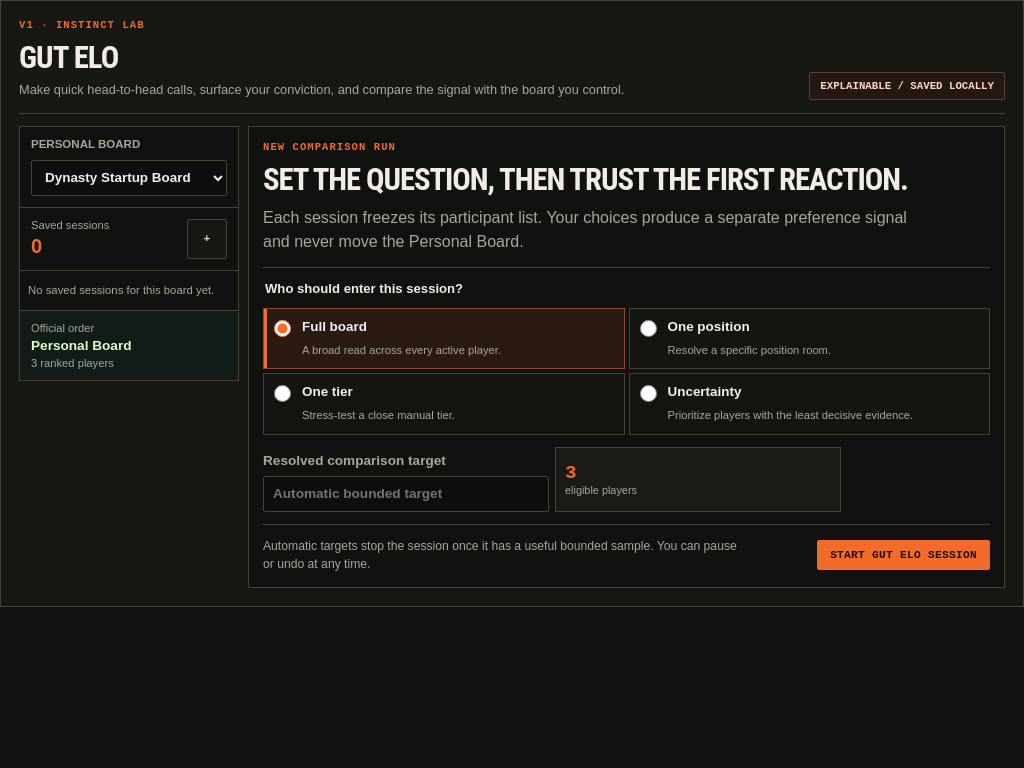
Test: GutEloWorkspace › starts a bounded position session from the selected Personal Board
Expected: the heading "Set the question, then trust the first reaction." is shown, [263, 160, 990, 198]
Click the radio button labelled "One position Resolve a specific position room." at (648, 329), box [640, 320, 656, 337]
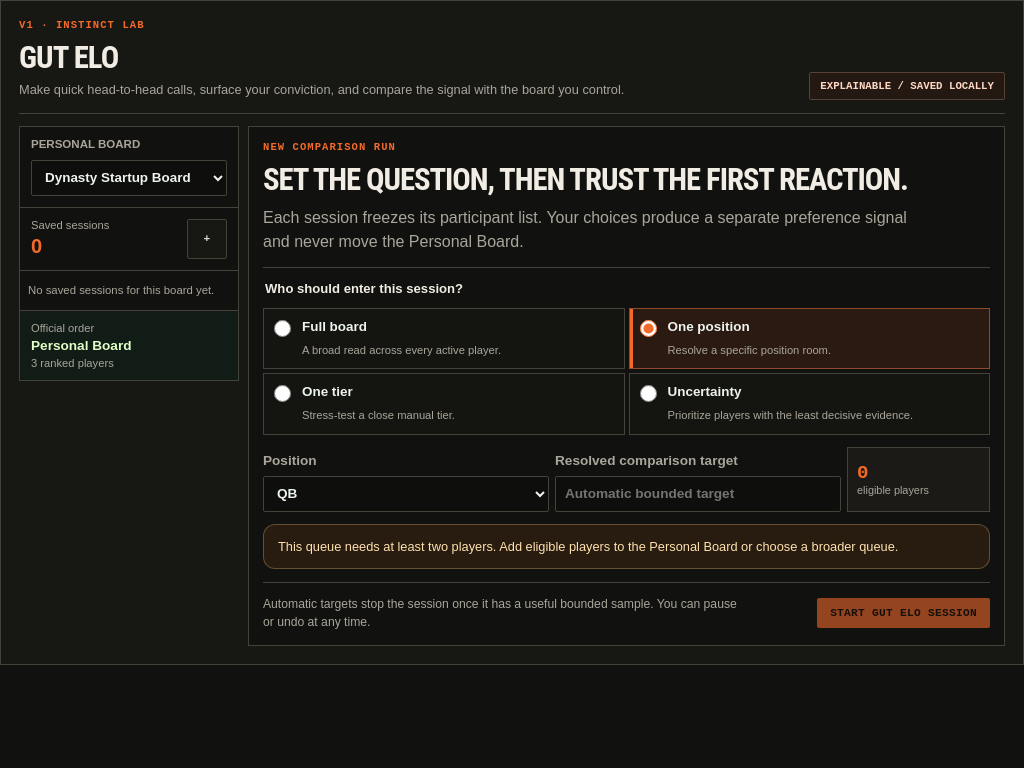
Select "RB" in the dropdown labelled "Position" at (406, 494), box [263, 476, 549, 512]
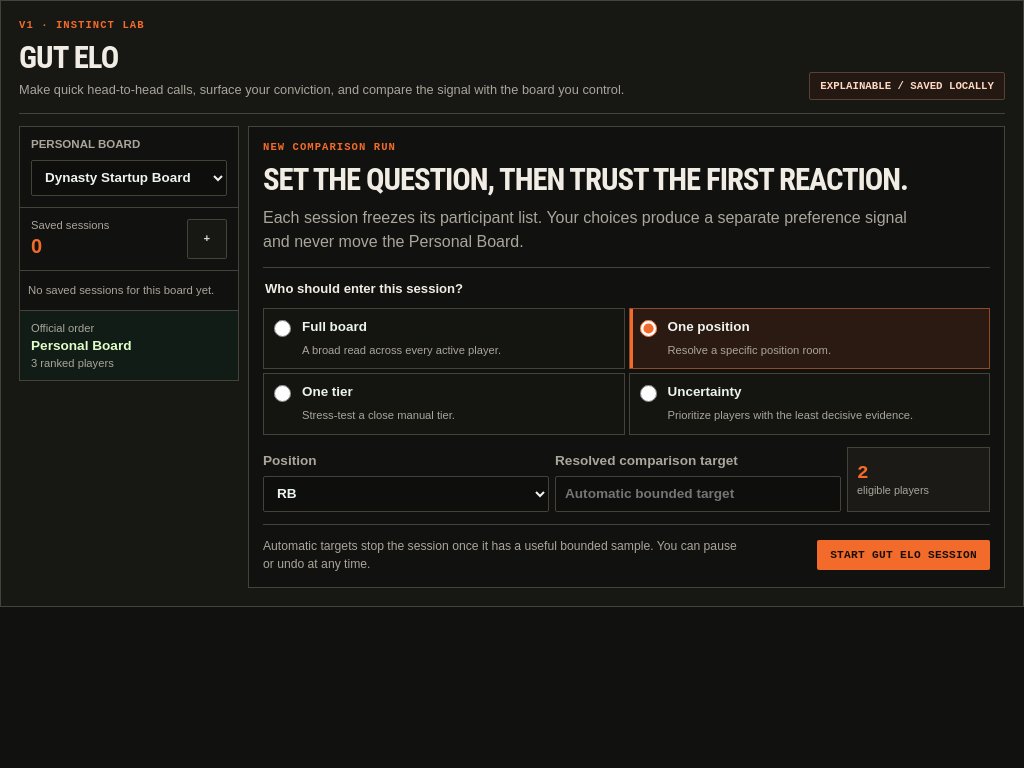
Type "2" into the number field labelled "Resolved comparison target" at (698, 494), box [555, 476, 841, 512]
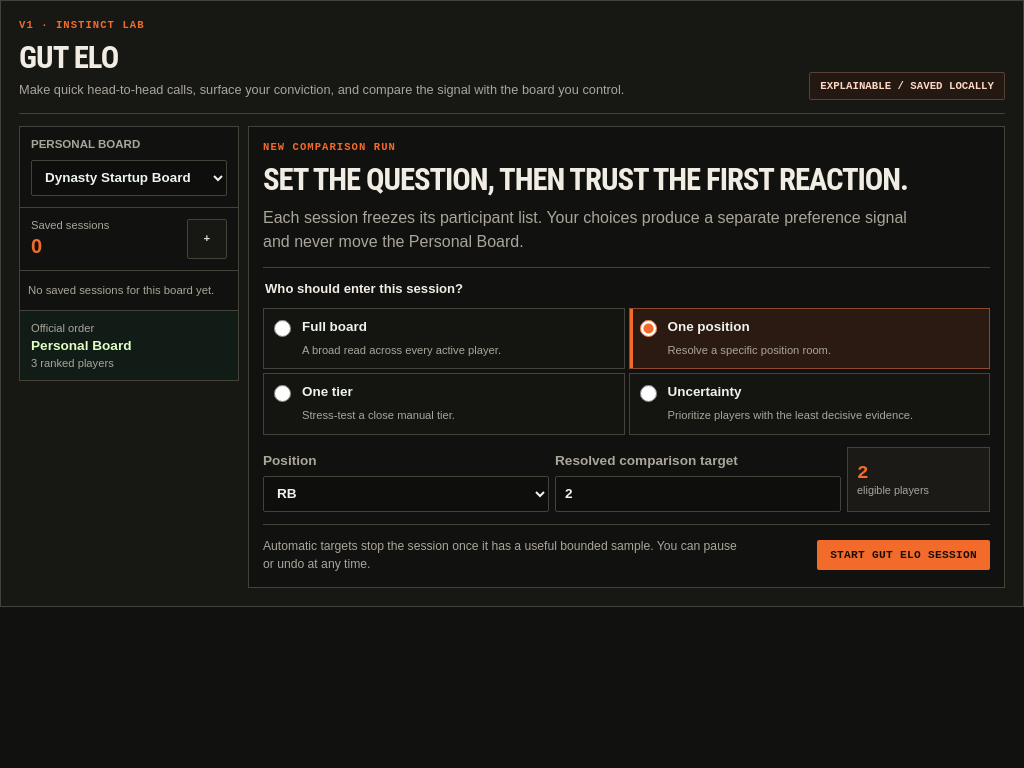
Click the button "Start Gut ELO session" at (904, 555), box [817, 540, 990, 570]
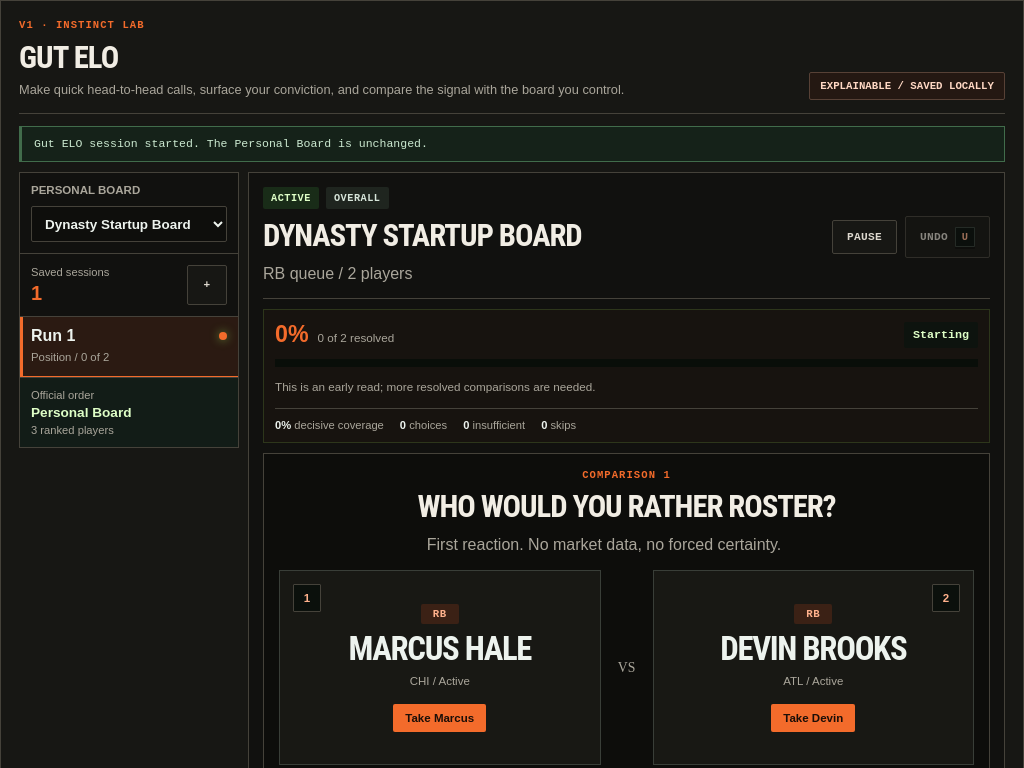
Now the text "Gut ELO session started. The Personal Board is unchanged." is shown, box [19, 126, 1005, 162]
